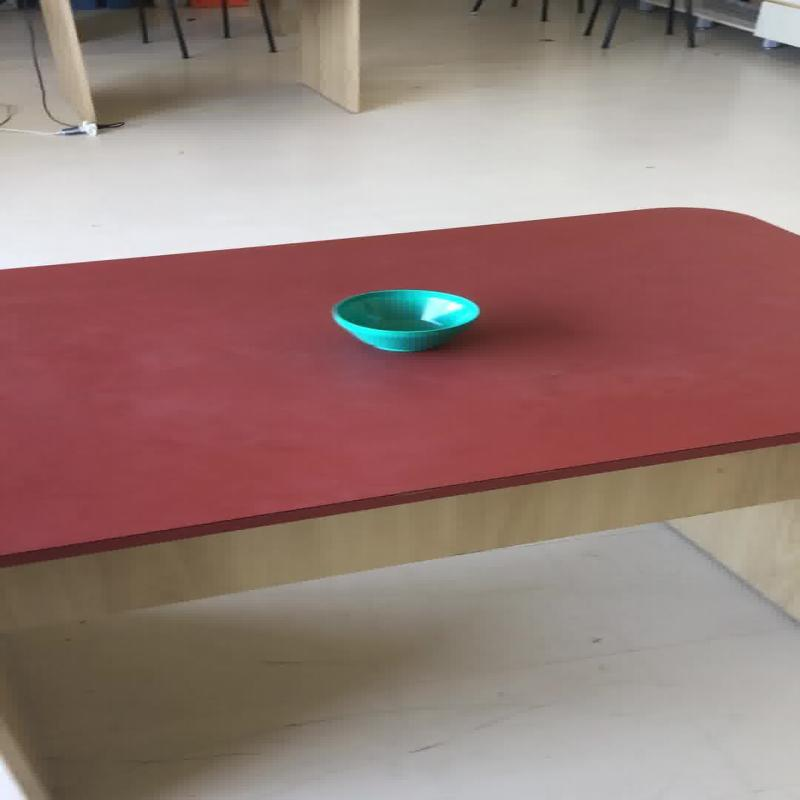bowl: (330, 287, 480, 352)
